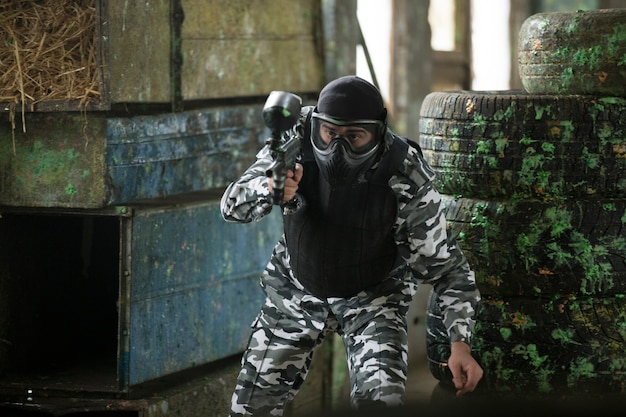gun: (262, 88, 312, 204)
